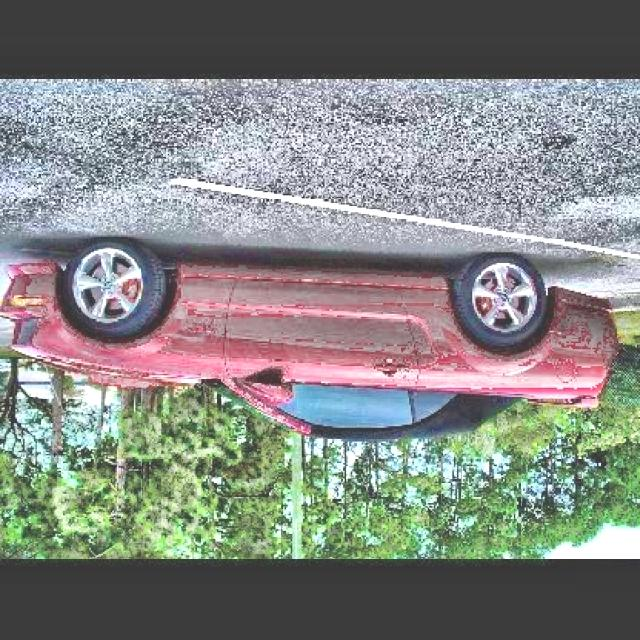maroon: (4, 243, 622, 440)
